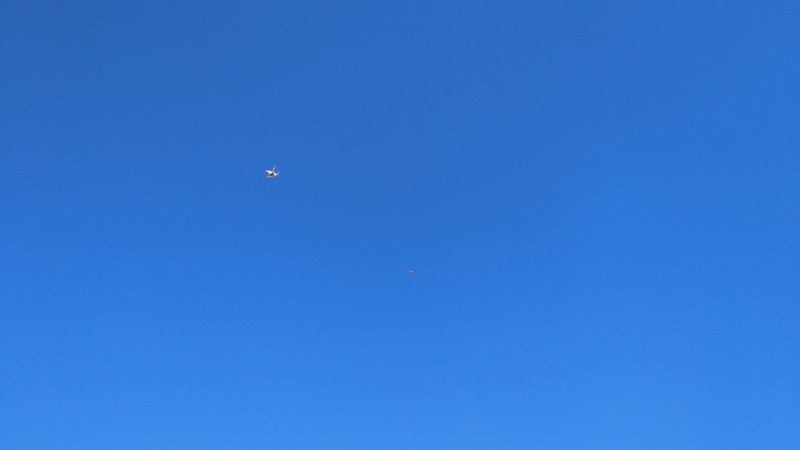drone: (264, 164, 280, 181)
